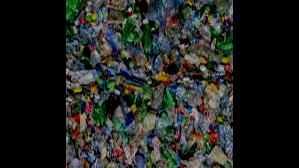Plastic: (142, 18, 152, 50)
